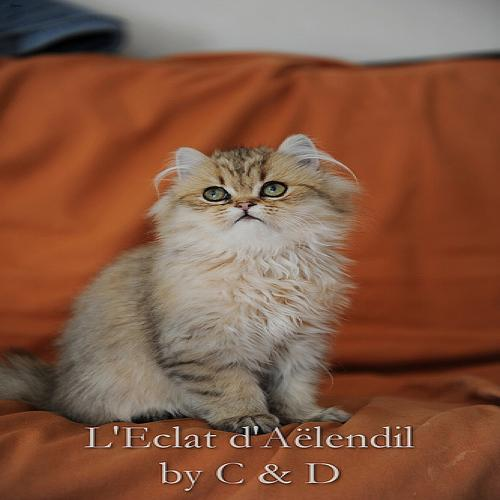persian: (150, 132, 359, 262)
